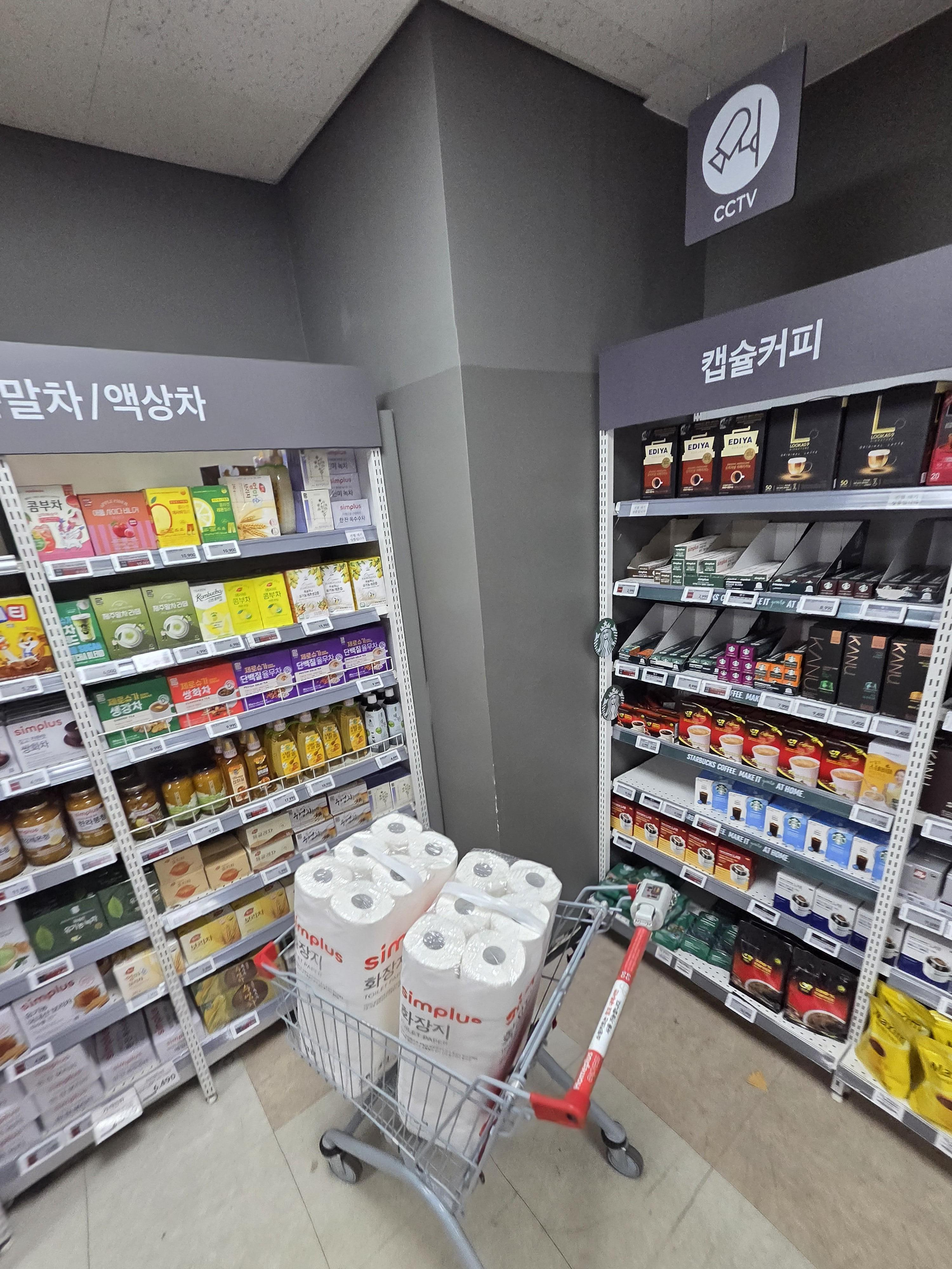fully_cart: (260, 810, 684, 1269)
